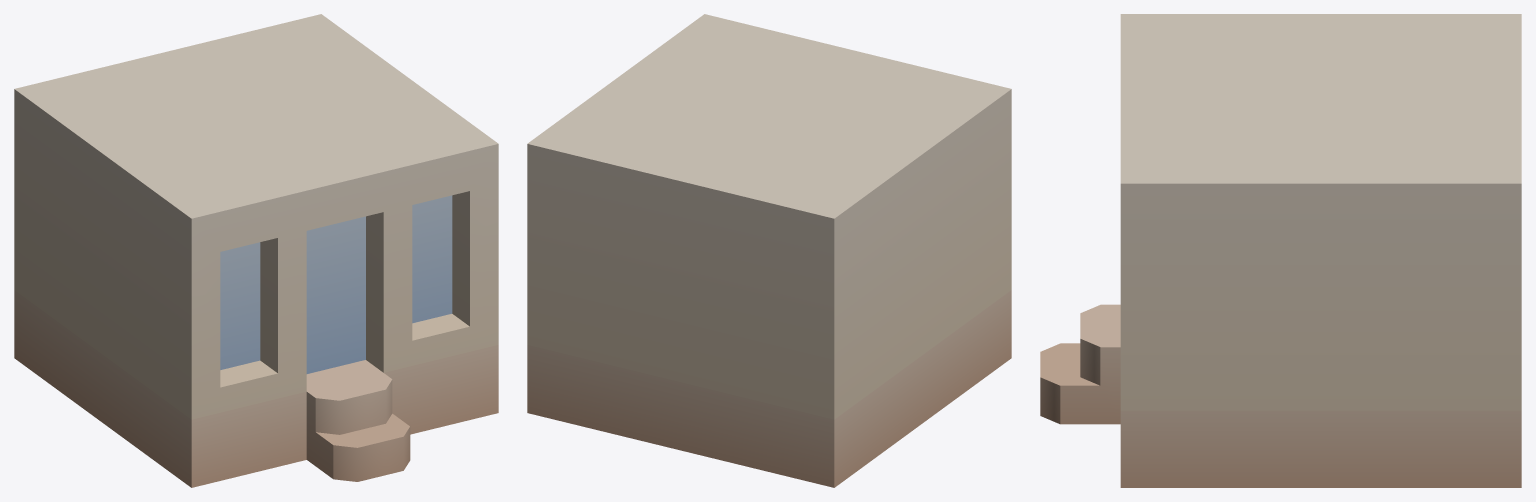
File: building-steps-narrow-windows.glb
3 renders of one model, left to right at view 1: azimuth 30°, elevation 25°; view 2: azimuth 150°, elevation 25°; view 3: azimuth 270°, elevation 25°, orthographic. The views are drawn at different scales.
Parts seen in each view (by area): view 1: building-steps-narrow-windows; view 2: building-steps-narrow-windows; view 3: building-steps-narrow-windows.
Boxes of the visible parts, x1,y1,x2,y2 form: building-steps-narrow-windows: (14, 14, 498, 487); building-steps-narrow-windows: (527, 14, 1011, 487); building-steps-narrow-windows: (1040, 14, 1521, 487).
Size of the model in its own units: 1 by 0.8375 by 1.2.
